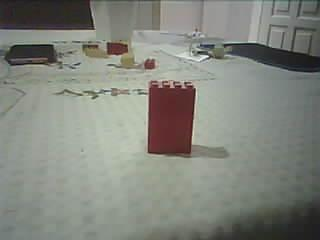lego: (145, 79, 196, 155), (106, 38, 130, 54), (81, 42, 102, 57), (119, 52, 137, 66), (141, 56, 156, 69)
